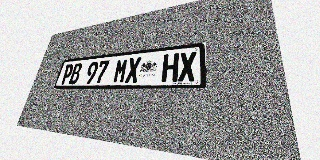7: (94, 60, 110, 84)
9: (84, 61, 99, 84)
B: (68, 63, 83, 84)
H: (161, 53, 179, 82)
M: (112, 58, 129, 83)
P: (60, 64, 74, 84)
X: (178, 51, 196, 82), (125, 57, 141, 83)
